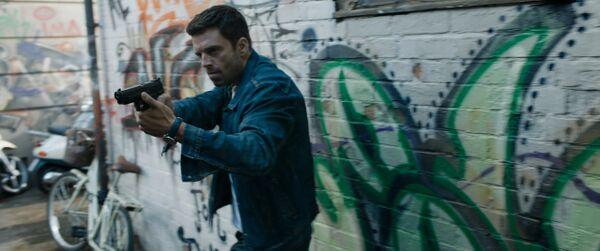Gun: (114, 77, 165, 109)
